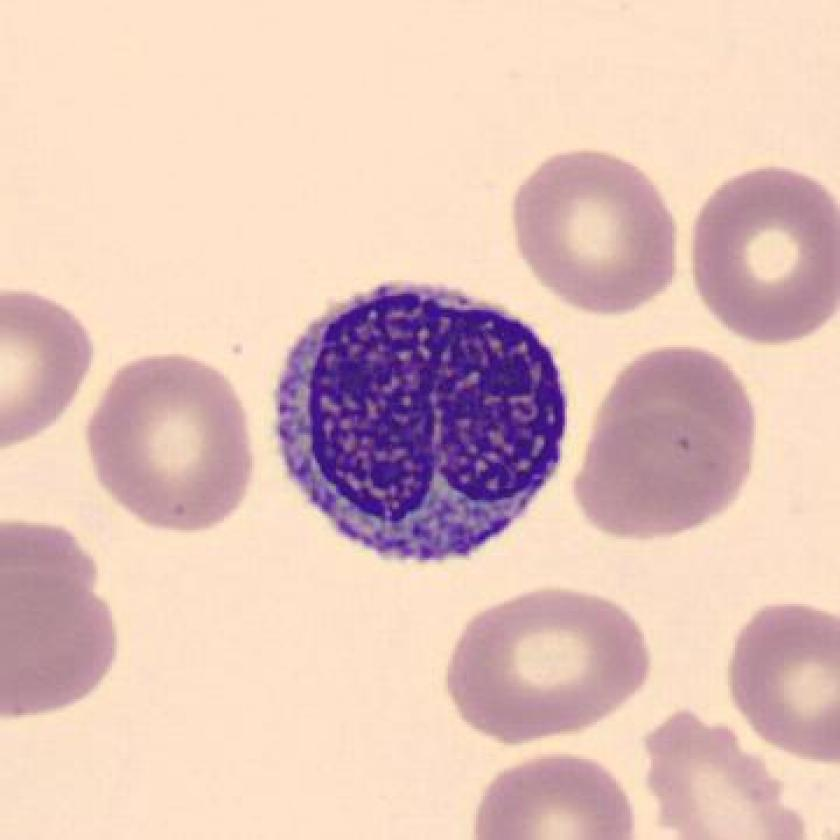monocyte: (260, 260, 591, 582)
